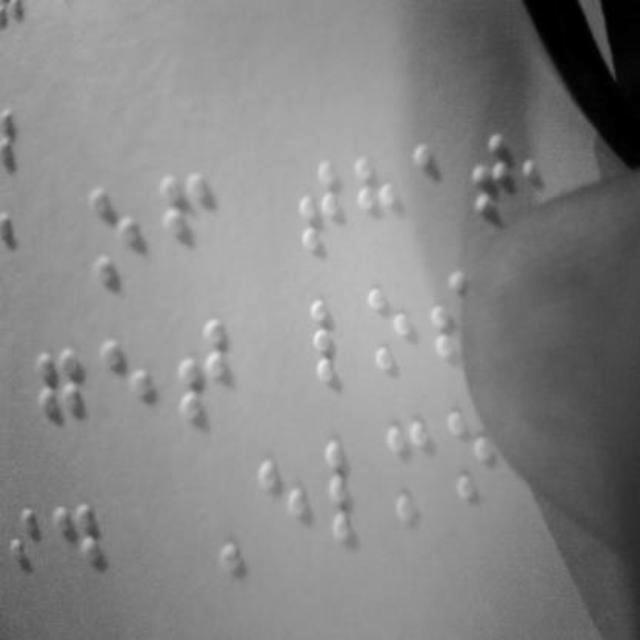braiile: (54, 490, 114, 610), (82, 179, 146, 291), (441, 400, 504, 512), (32, 341, 92, 457), (98, 332, 164, 436), (157, 164, 217, 278), (172, 318, 232, 432), (325, 430, 381, 542), (291, 154, 349, 260), (384, 418, 440, 526), (257, 455, 313, 559), (366, 281, 424, 379), (350, 150, 402, 258), (0, 503, 50, 609), (306, 292, 362, 386)
